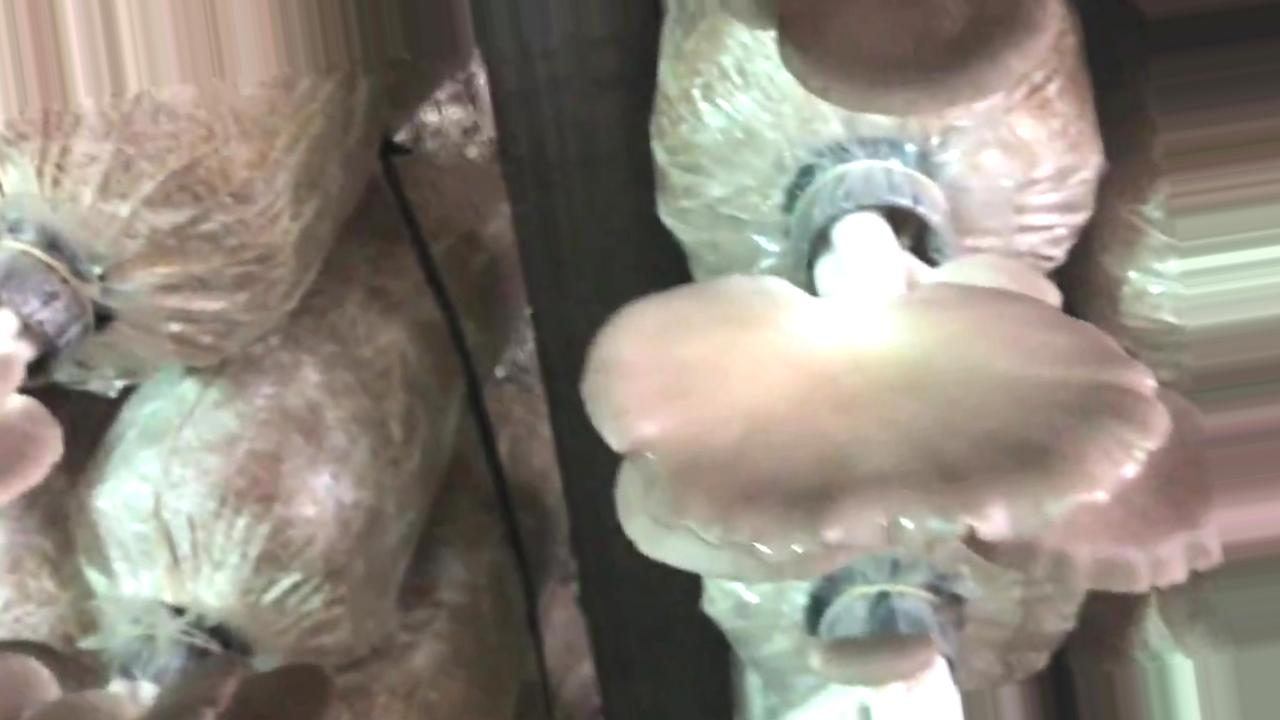nam: (577, 146, 1173, 564), (722, 1, 1059, 117)
